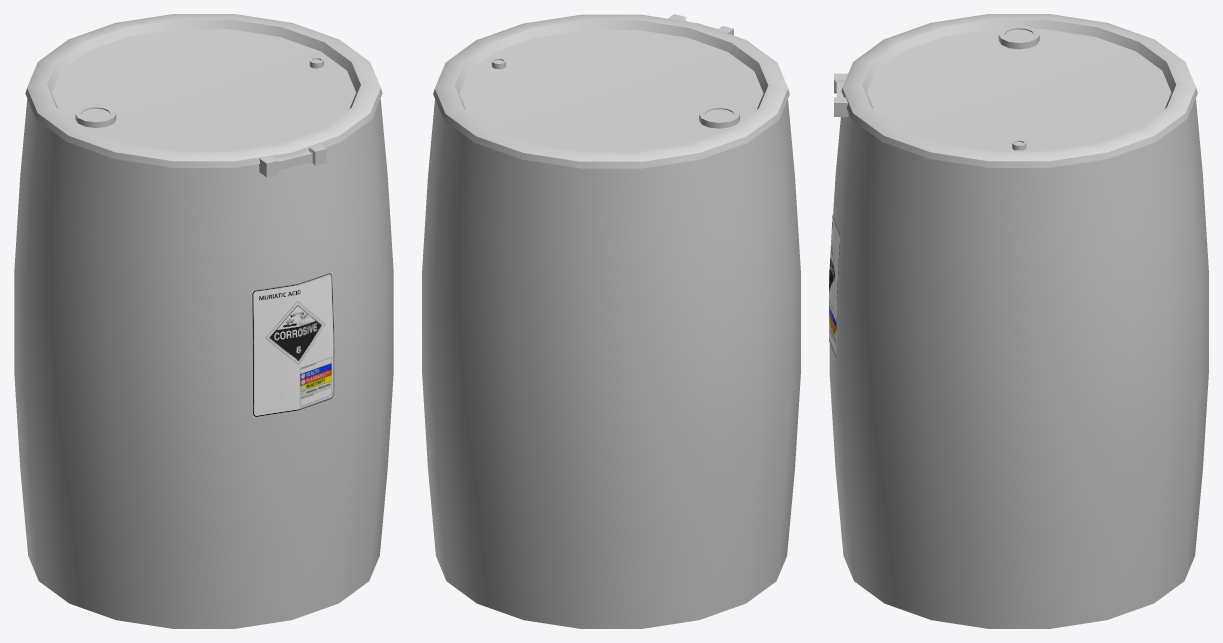
File: Muriatic_Acid.fbx
3 views of the same model, side by side, from view 1: azimuth 30°, elevation 25°; view 2: azimuth 150°, elevation 25°; view 3: azimuth 270°, elevation 25° (orthographic).
Parts seen in each view (by area): view 1: 55_Gal_Drum_.002, 55_Gal_Drum_Lid_Low.005, 55_Gal_Drum_.003; view 2: 55_Gal_Drum_.002, 55_Gal_Drum_Lid_Low.005; view 3: 55_Gal_Drum_.002, 55_Gal_Drum_Lid_Low.005, 55_Gal_Drum_.003.
Part boxes in pixels (x1,y1,x2,y2): 55_Gal_Drum_.002: (14,99,393,628); 55_Gal_Drum_Lid_Low.005: (25,14,382,177); 55_Gal_Drum_.003: (252,272,334,417); 55_Gal_Drum_.002: (422,99,800,628); 55_Gal_Drum_Lid_Low.005: (433,14,789,168); 55_Gal_Drum_.002: (829,99,1208,628); 55_Gal_Drum_Lid_Low.005: (834,14,1197,167); 55_Gal_Drum_.003: (829,215,840,359).
Size of the model in its own units: 61.81 by 86.03 by 62.85.
